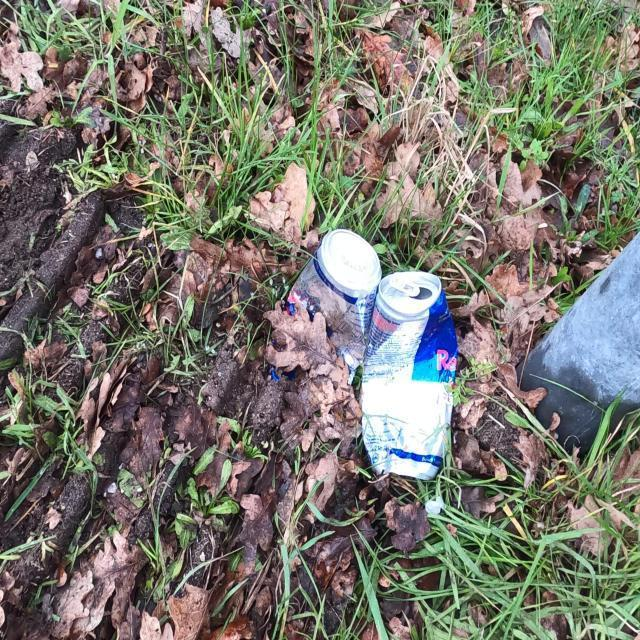Can-Metal: (361, 268, 458, 483), (272, 227, 384, 388)
